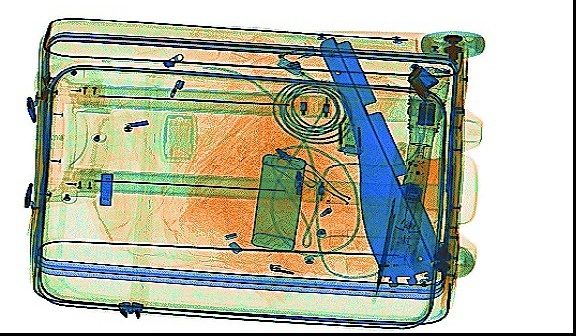scissors: (372, 138, 410, 295)
zippooil: (247, 151, 305, 252)
